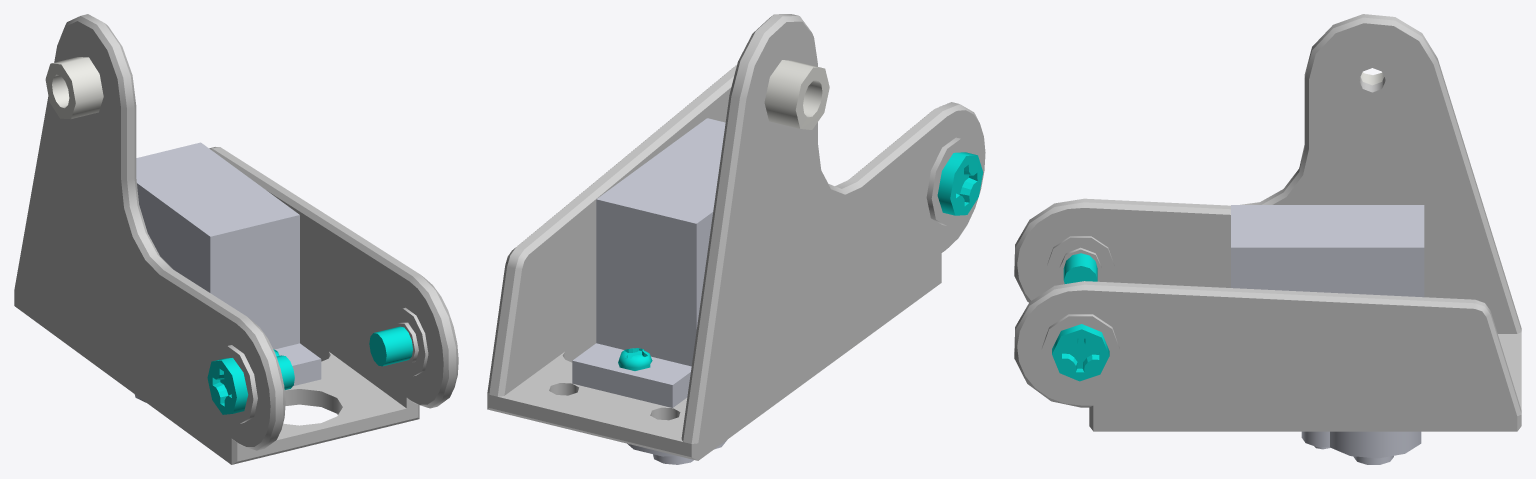
Rendered from hand.dae.
3 views of the same model, side by side, from view 1: azimuth 30°, elevation 25°; view 2: azimuth 150°, elevation 25°; view 3: azimuth 270°, elevation 25° (orthographic). The views are drawn at different scales.
Visible parts, largest first — view 1: __001; view 2: __001; view 3: __001.
Part boxes in pixels (box(x1,y1,x2,y2)): __001: box(14, 14, 458, 464); __001: box(487, 14, 985, 464); __001: box(1014, 14, 1521, 464).
Size of the model in its own units: 30.8 by 59.84 by 52.02.
